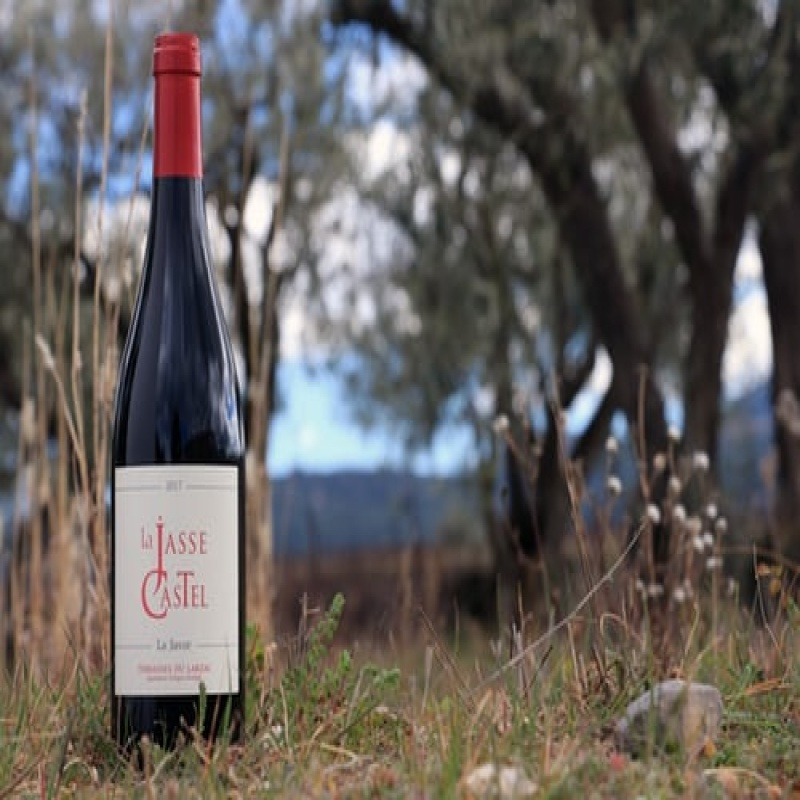wine: (109, 35, 252, 718)
